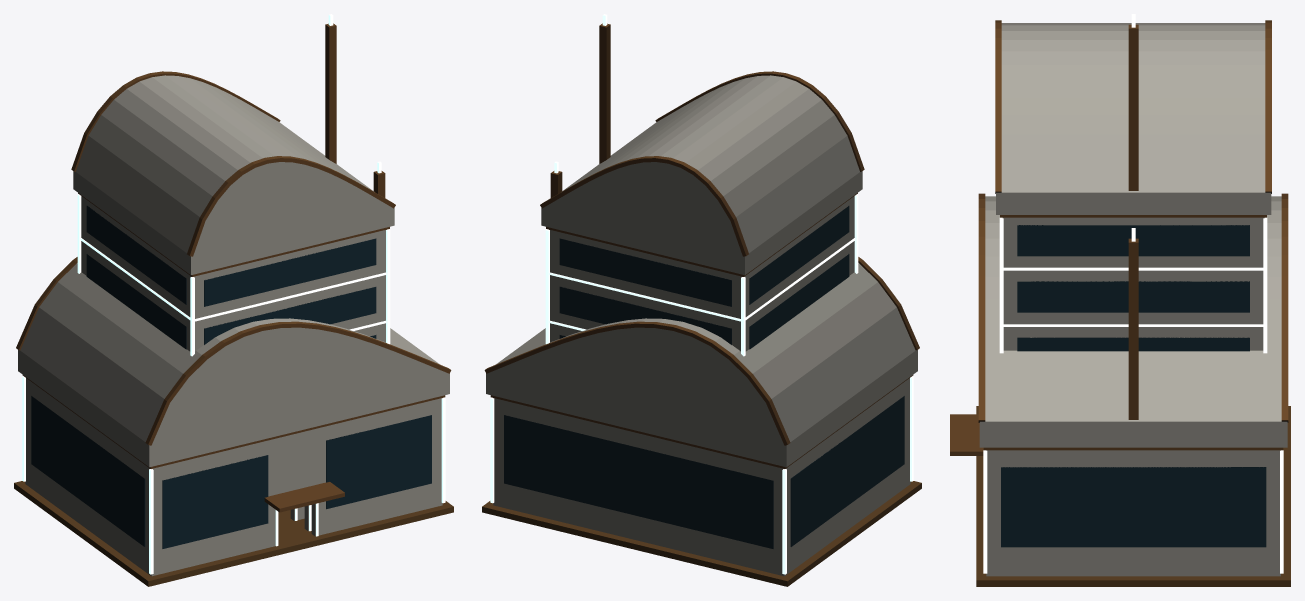
Rendered from shaddai_realm_buildings_ocean_v01.glb.
The picture shows the model from 3 angles, left to right: view 1: azimuth 30°, elevation 25°; view 2: azimuth 150°, elevation 25°; view 3: azimuth 270°, elevation 25°; orthographic projection. The views are drawn at different scales.
Visible parts, largest first — view 1: shaddai_bld_ocean_hall, shaddai_bld_ocean_tower; view 2: shaddai_bld_ocean_hall, shaddai_bld_ocean_tower; view 3: shaddai_bld_ocean_tower, shaddai_bld_ocean_hall.
Part boxes in pixels (bbox=[...]): shaddai_bld_ocean_hall: bbox=[14, 161, 453, 586]; shaddai_bld_ocean_tower: bbox=[71, 14, 395, 542]; shaddai_bld_ocean_hall: bbox=[482, 161, 921, 586]; shaddai_bld_ocean_tower: bbox=[540, 14, 864, 356]; shaddai_bld_ocean_tower: bbox=[966, 14, 1271, 455]; shaddai_bld_ocean_hall: bbox=[950, 193, 1290, 586].
Size of the model in its own units: 25.2 by 36.4 by 20.8.
